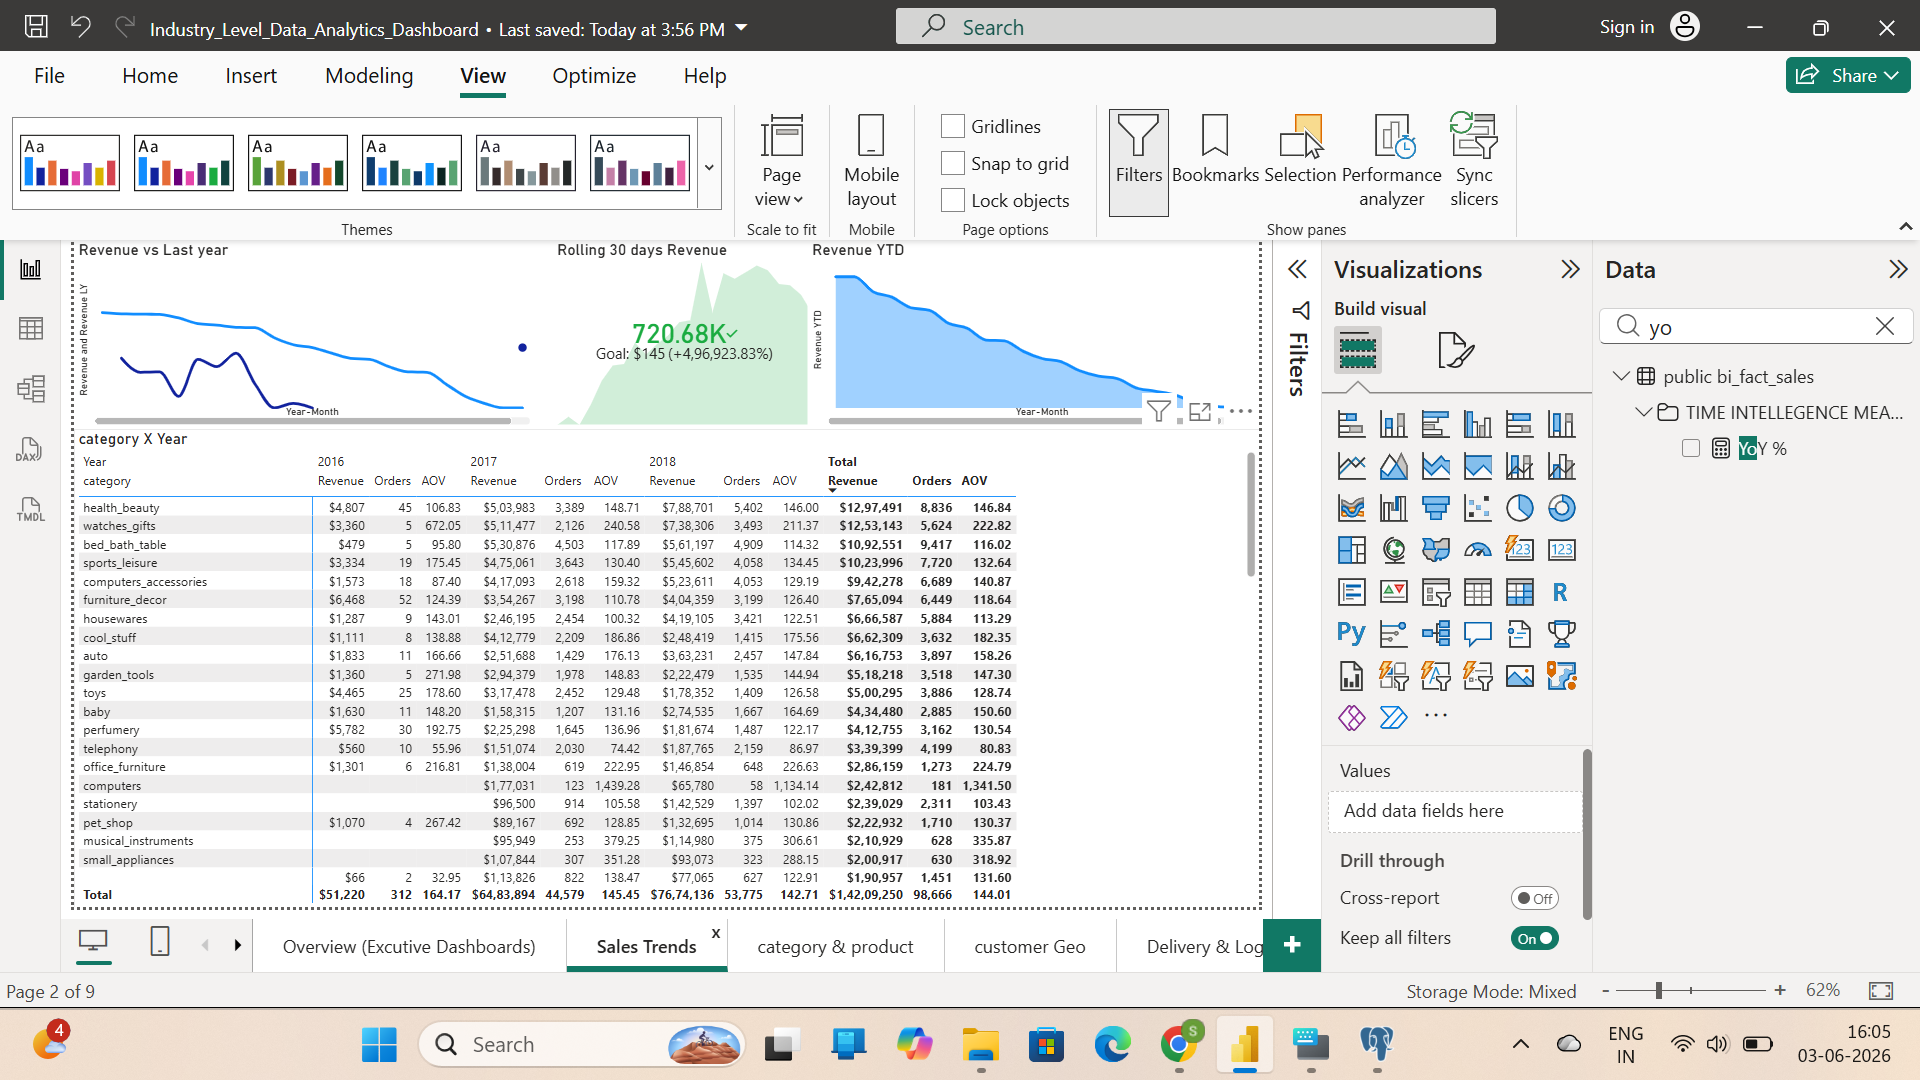

The page's visual inventory and layout, read from the dashboard file:
{"tool":"powerbi","page":{"name":"Sales Trends","canvas":[1280,720],"ordinal":1},"visuals":[{"type":"lineChart","title":"Revenue vs Last year","fields":{"Category":["DimDate.Year-Month"],"Y":["public bi_fact_sales.Revenue","public bi_fact_sales.Revenue LY"]},"box":[0,0,497.1,204],"z":0},{"type":"kpi","title":"Rolling 30 days Revenue ","fields":{"TrendLine":["DimDate.Year-Month"],"Indicator":["public bi_fact_sales.Rolling 30D Revenue"],"Goal":["public bi_fact_sales.Revenue"]},"box":[516.5,0,285,204],"z":1000},{"type":"areaChart","title":"Revenue YTD","fields":{"Category":["DimDate.Year-Month"],"Y":["public bi_fact_sales.Revenue YTD"]},"box":[791.8,0,489,204],"z":2000},{"type":"pivotTable","title":"category X Year","fields":{"Values":["public bi_fact_sales.Revenue","public bi_fact_sales.Orders","public bi_fact_sales.AOV"],"Rows":["public bi_fact_sales.category"],"Columns":["DimDate.Date.Variation.Date Hierarchy.Year"]},"box":[0,203.3,1280,516.7],"z":3000}]}

Visuals, with their boxes on the page's 1280x720 design canvas (x1, y1, x2, y2). These are canvas units, not pixel positions in the 1920x1080 screenshot, which may show the page scaled, cropped or inside an application window:
"Revenue vs Last year" lineChart: box=[0, 0, 497, 204]
"Rolling 30 days Revenue " kpi: box=[516, 0, 802, 204]
"Revenue YTD" areaChart: box=[792, 0, 1281, 204]
"category X Year" pivotTable: box=[0, 203, 1280, 720]
